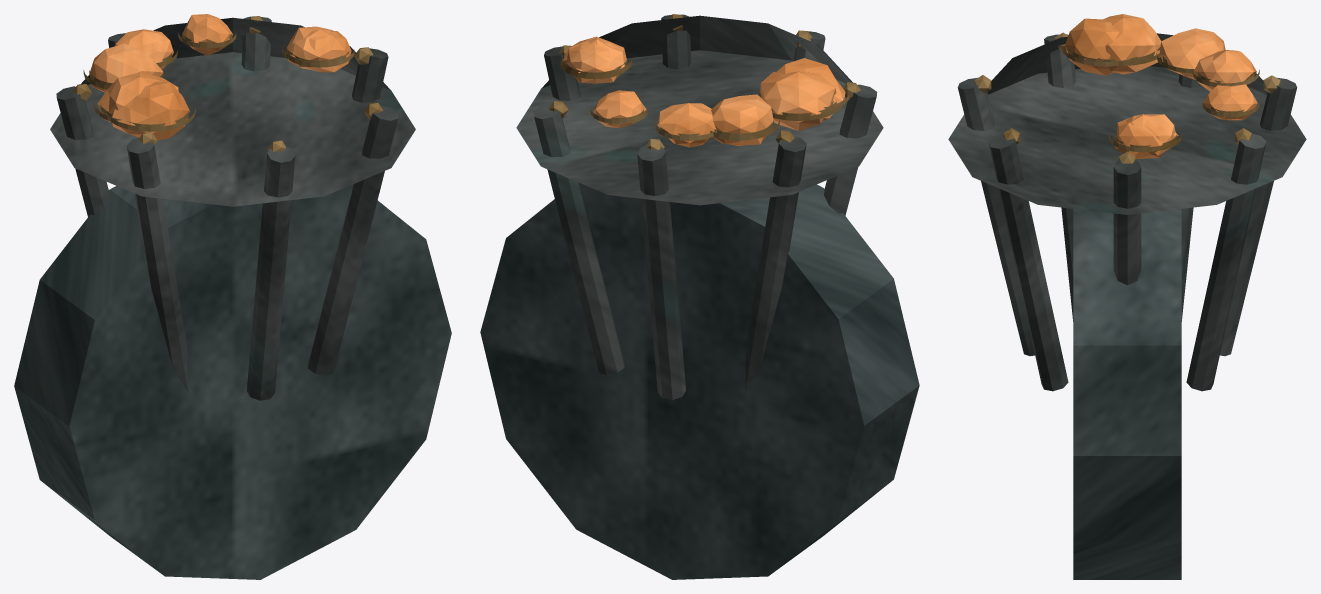
Rendered from 0533_brazier_08.glb.
3 views of the same model, side by side, from view 1: azimuth 30°, elevation 25°; view 2: azimuth 150°, elevation 25°; view 3: azimuth 270°, elevation 25° (orthographic). The views are drawn at different scales.
Parts seen in each view (by area): view 1: stone_dark, iron, amber, brass; view 2: stone_dark, iron, amber, brass; view 3: iron, stone_dark, amber, brass.
Part boxes in pixels (x1,y1,x2,y2): stone_dark: (14, 184, 451, 579); iron: (50, 16, 415, 400); amber: (90, 14, 351, 140); brass: (72, 16, 382, 151); stone_dark: (480, 183, 919, 579); iron: (516, 14, 883, 399); amber: (562, 36, 845, 147); brass: (549, 14, 860, 149); iron: (948, 33, 1306, 391); stone_dark: (1073, 209, 1181, 579); amber: (1065, 14, 1257, 158); brass: (974, 32, 1280, 163).
Size of the model in its own units: 1.4 by 1.78 by 1.16.
Materials: 4 (4 with a texture image).
